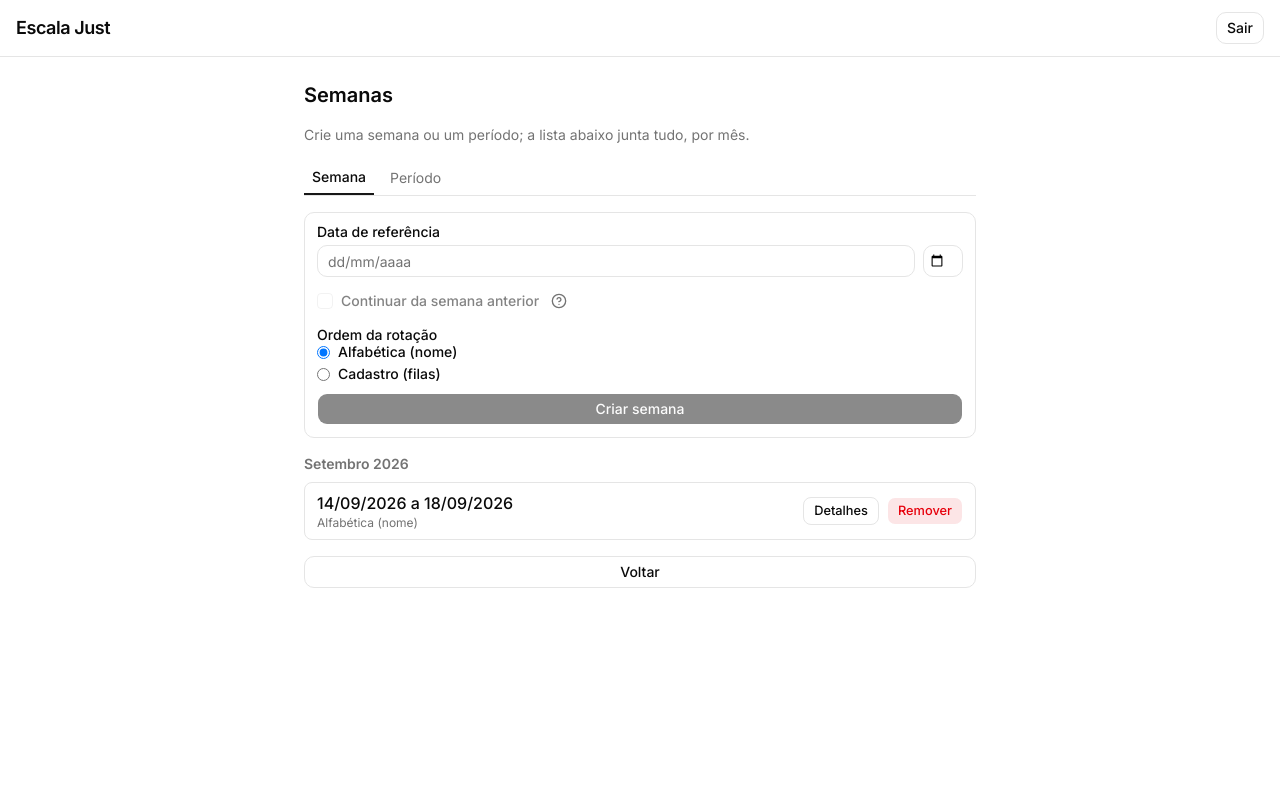
Test: guardas de rota › remover tira a semana visível da lista
What coordinates should you click on to do the following:
click the button "Remover"
I would click on:
 (925, 511)
Its box is [887, 497, 963, 525].
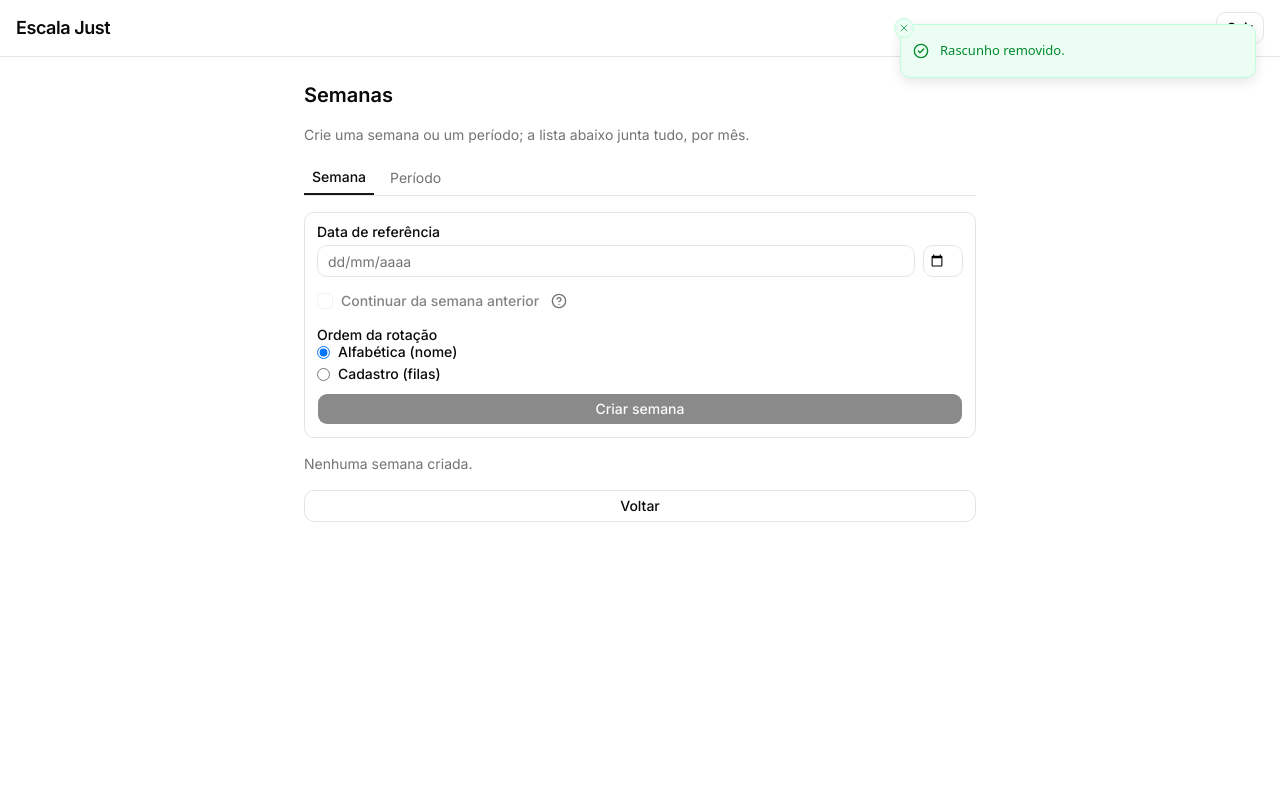
Result: the text "Rascunho removido." is shown at [940, 41, 1065, 60]
Result: the text "14/09/2026 a 18/09/2026" is gone
